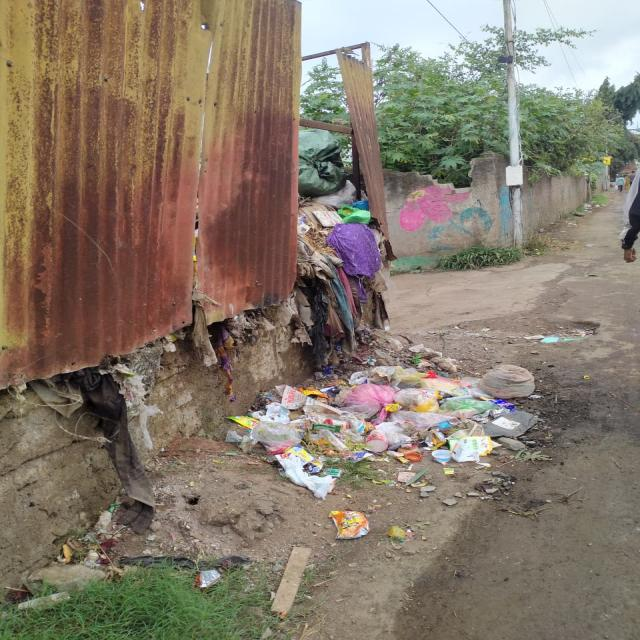garbage: (242, 358, 557, 480), (291, 128, 399, 356)
